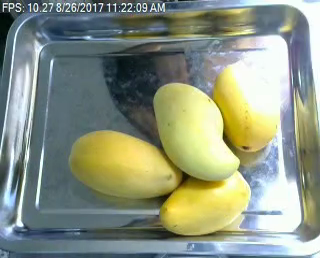Mango: (153, 84, 238, 179), (67, 129, 182, 198), (158, 166, 252, 236), (215, 62, 278, 152)
